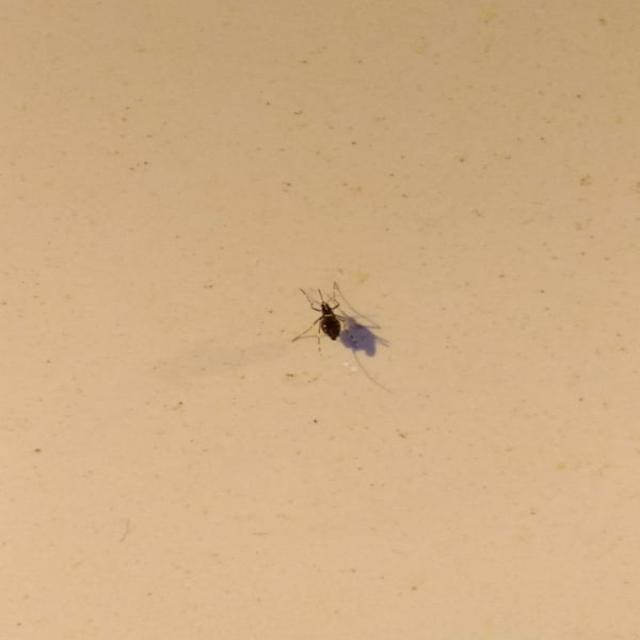albopictus: (282, 278, 401, 388)
